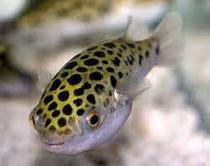Green Spotted Puffer: (30, 10, 180, 157)
